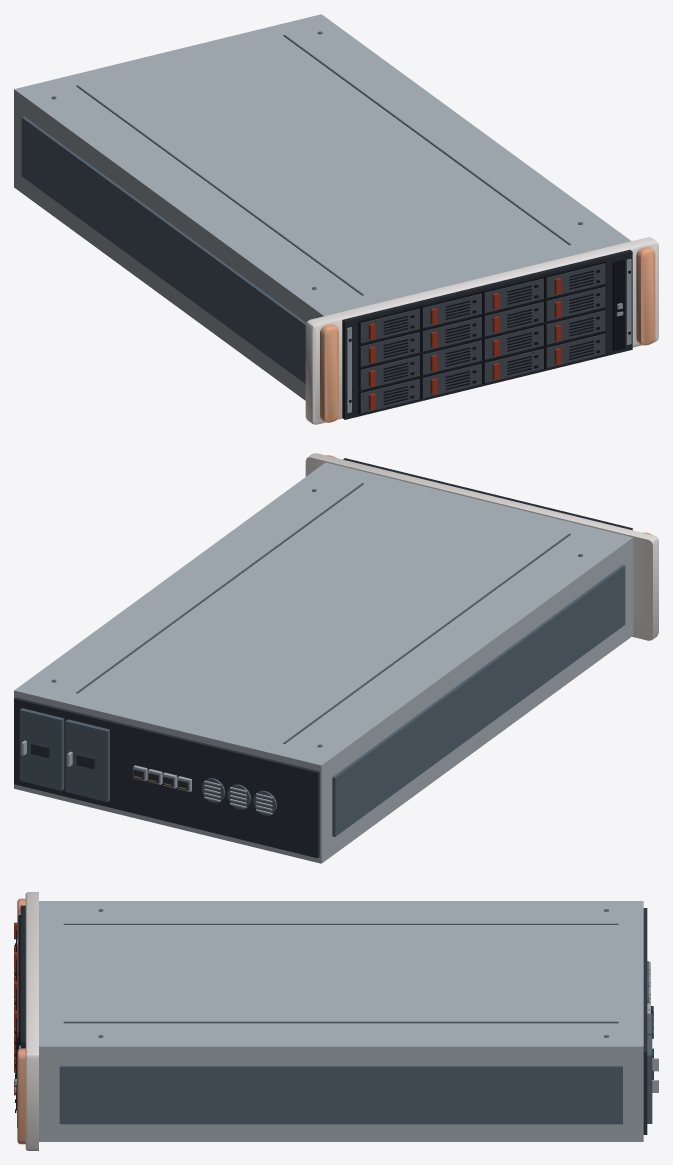
Rendered from stockage-3u.glb.
3 renders of one model, top to bottom at view 1: azimuth 30°, elevation 25°; view 2: azimuth 150°, elevation 25°; view 3: azimuth 270°, elevation 25°, orthographic. The views are drawn at different scales.
Visible parts, largest first — view 1: storage-3u 13, Façade 13, Poignée 13-2, Poignée 13-1; view 2: storage-3u 13, Façade 13; view 3: storage-3u 13, Façade 13, Poignée 13-2.
Part boxes in pixels (x1,y1,x2,y2): storage-3u 13: [14, 14, 632, 419]; Façade 13: [305, 237, 658, 424]; Poignée 13-2: [636, 247, 655, 345]; Poignée 13-1: [320, 324, 338, 422]; storage-3u 13: [14, 458, 633, 863]; Façade 13: [305, 453, 658, 640]; storage-3u 13: [14, 901, 658, 1141]; Façade 13: [25, 892, 38, 1150]; Poignée 13-2: [17, 1048, 25, 1144].
Bounding box in the file's own units: 0.47 × 0.1305 × 0.7785.
12 materials, 1 textured.
